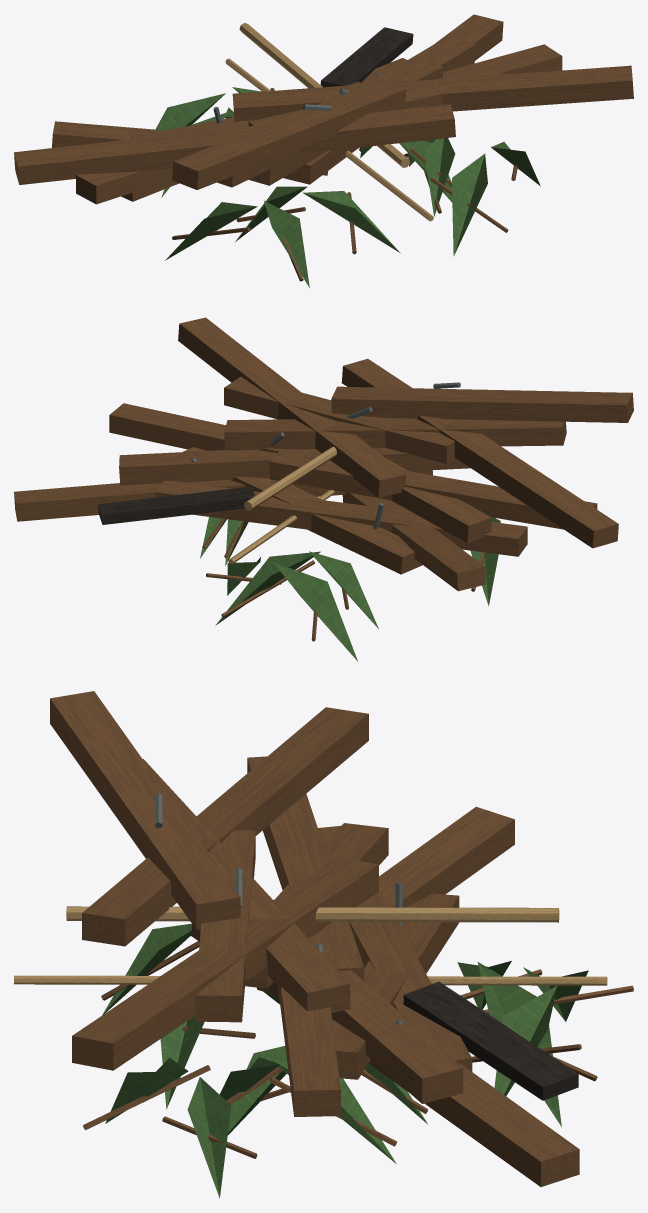
File: en-002_broken_plank_pile__large.obj
The picture shows the model from 3 angles, top to bottom: view 1: azimuth 30°, elevation 25°; view 2: azimuth 150°, elevation 25°; view 3: azimuth 270°, elevation 25°; orthographic projection. The views are drawn at different scales.
Visible parts, largest first — view 1: en-002_broken_plank_pile__large; view 2: en-002_broken_plank_pile__large; view 3: en-002_broken_plank_pile__large.
Part boxes in pixels (x1,y1,x2,y2): en-002_broken_plank_pile__large: (14, 14, 633, 287); en-002_broken_plank_pile__large: (14, 317, 633, 661); en-002_broken_plank_pile__large: (14, 691, 633, 1198).
Bounding box in the file's own units: 2.06 × 0.6325 × 1.39.
Materials: 5 (5 with a texture image).
